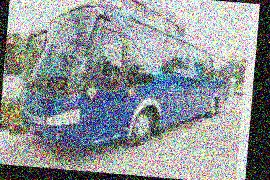bus: (15, 0, 235, 161)
